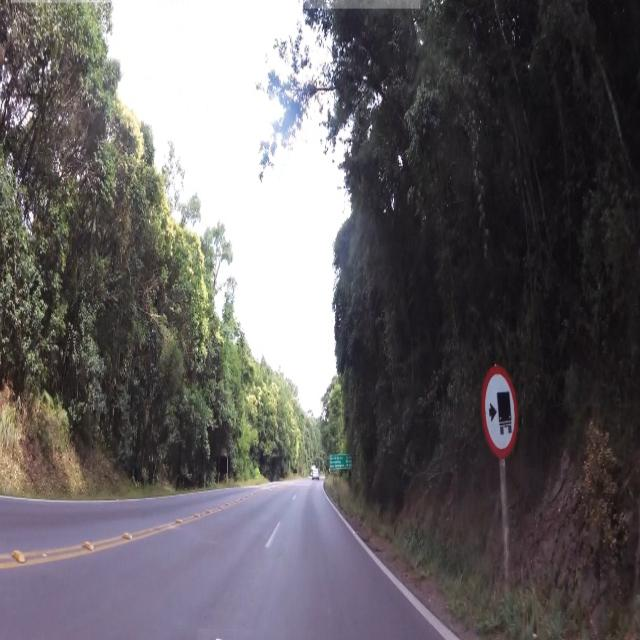R-27: (480, 360, 520, 454)
